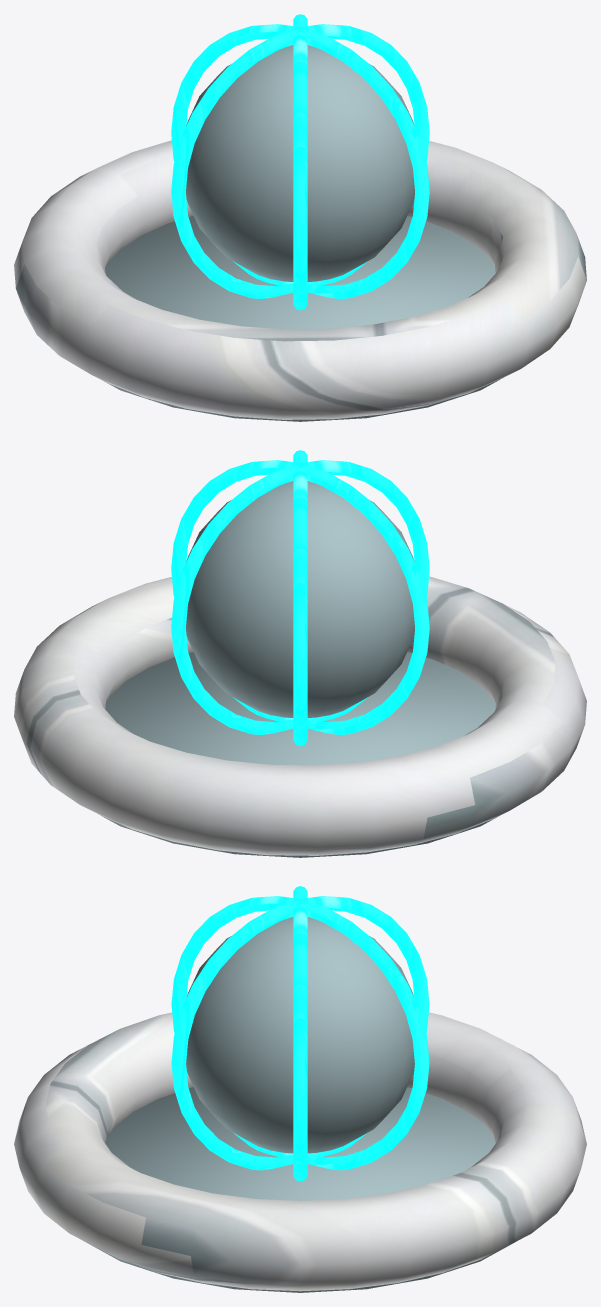
The model's file is azure_purification_plant.glb.
3 renders of one model, top to bottom at view 1: azimuth 30°, elevation 25°; view 2: azimuth 150°, elevation 25°; view 3: azimuth 270°, elevation 25°, orthographic.
Visible parts, largest first — view 1: AzurePurificationPlant; view 2: AzurePurificationPlant; view 3: AzurePurificationPlant.
Boxes of the visible parts, x1=… form: AzurePurificationPlant: x1=14, y1=14, x2=586, y2=421; AzurePurificationPlant: x1=14, y1=450, x2=586, y2=857; AzurePurificationPlant: x1=14, y1=886, x2=586, y2=1292.
Bounding box in the file's own units: 4.28 × 2.35 × 4.28.
3 materials, 3 textured.
